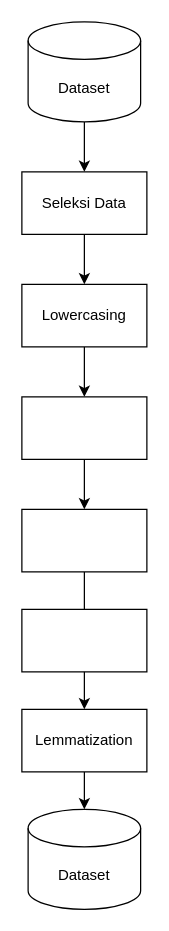
This 169x931 diagram has some shape labels left out. The centre of each missing label's shape, as x and y in pixels:
Pembersihan Karakter Khusus: point 84,427
Pembersihan Karakter Non-Alphanumeric: point 84,540
Stopword Removal: point 84,640
